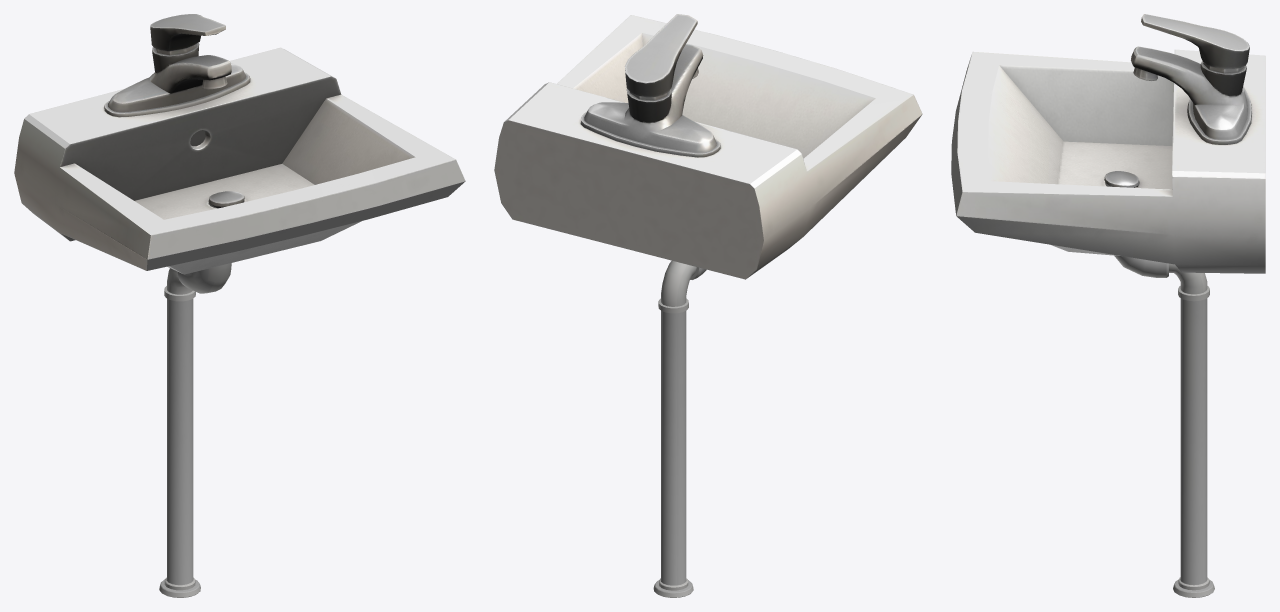
File: basic_sink 1.fbx
3 views of the same model, side by side, from view 1: azimuth 30°, elevation 25°; view 2: azimuth 150°, elevation 25°; view 3: azimuth 270°, elevation 25° (orthographic). The views are drawn at different scales.
Visible parts, largest first — view 1: basic sink; view 2: basic sink; view 3: basic sink.
Part boxes in pixels (x1,y1,x2,y2): basic sink: (14, 14, 465, 597); basic sink: (494, 14, 922, 597); basic sink: (951, 14, 1265, 597).
Bounding box in the file's own units: 0.6935 × 1.22 × 0.6034.
